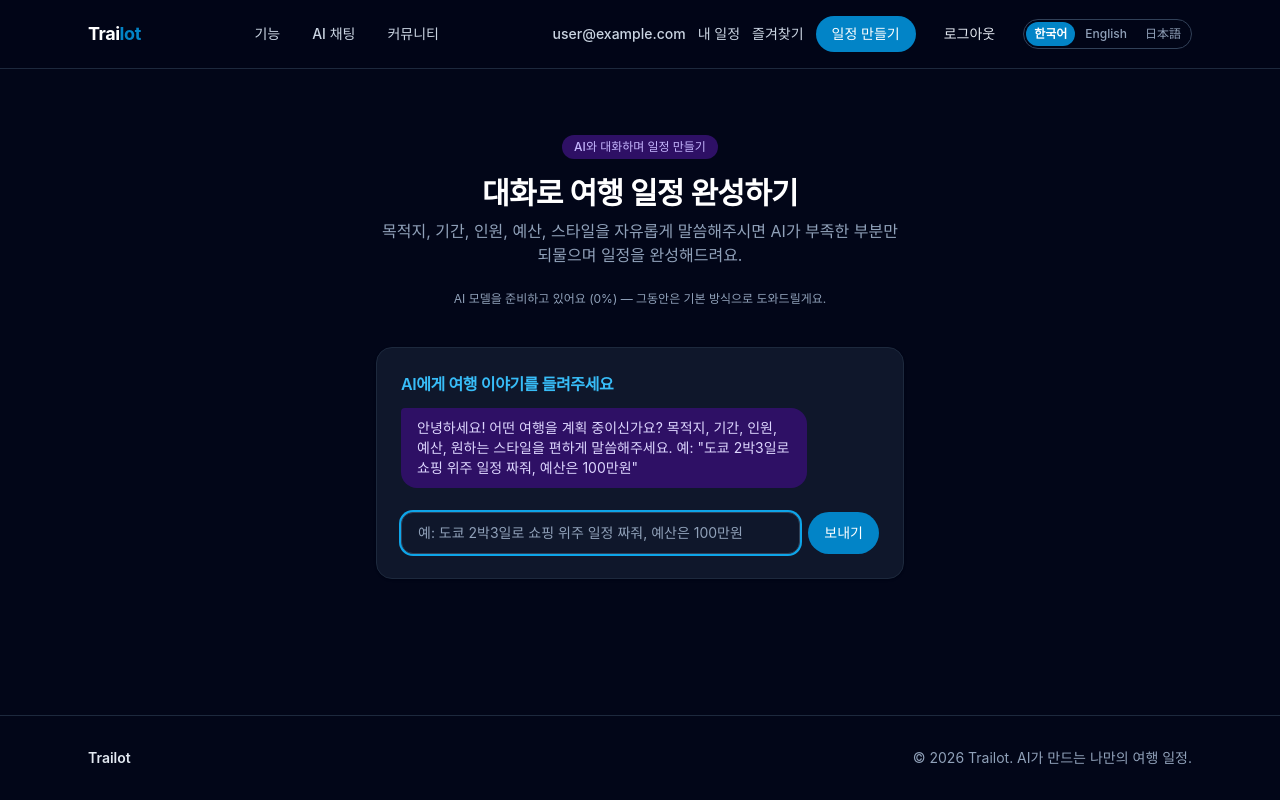
Test: PlanChatPage › asks a follow-up question for whatever is still missing after a partial message
In the field named "메시지 입력": [601, 533] box 401,512 -> 800,554, type "도쿄 2박3일로 쇼핑 위주 일정 짜줘, 예산은 100만원"
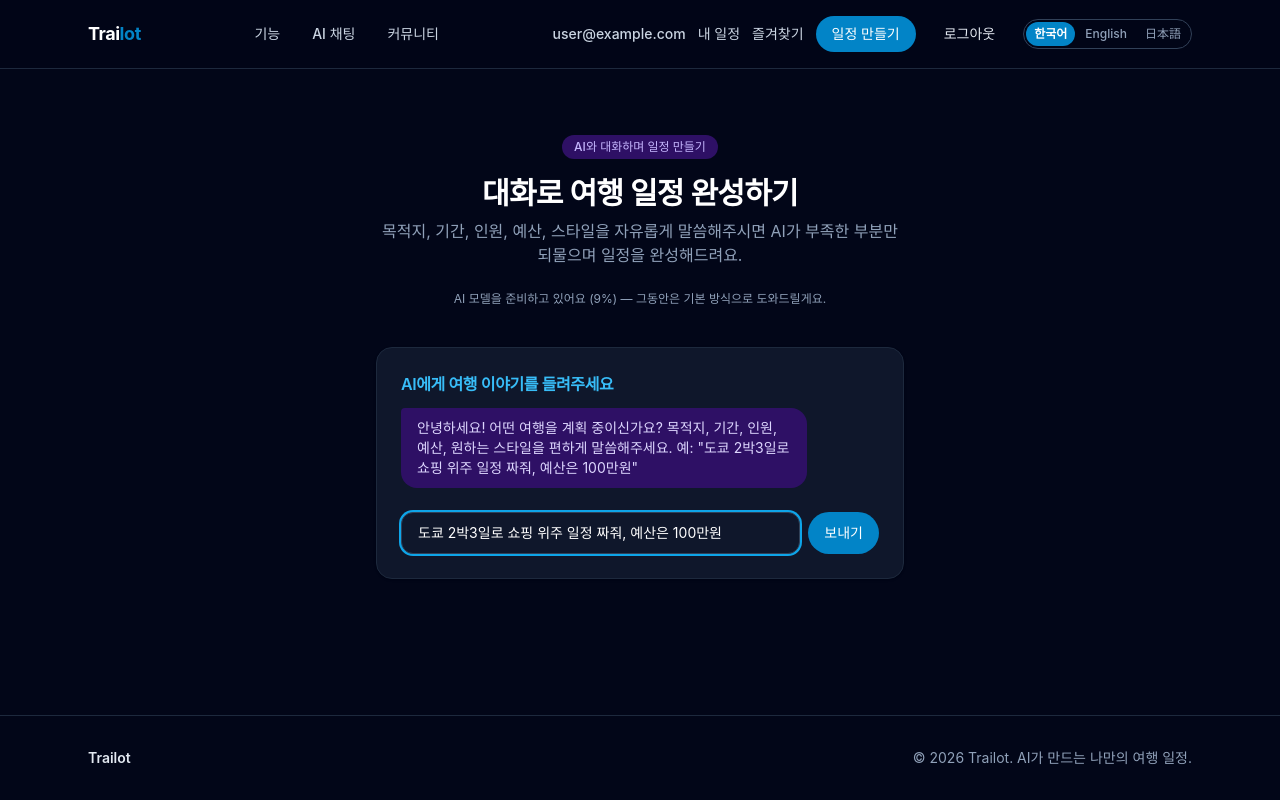
Click the button "보내기": [844, 533] box 808,512 -> 879,554
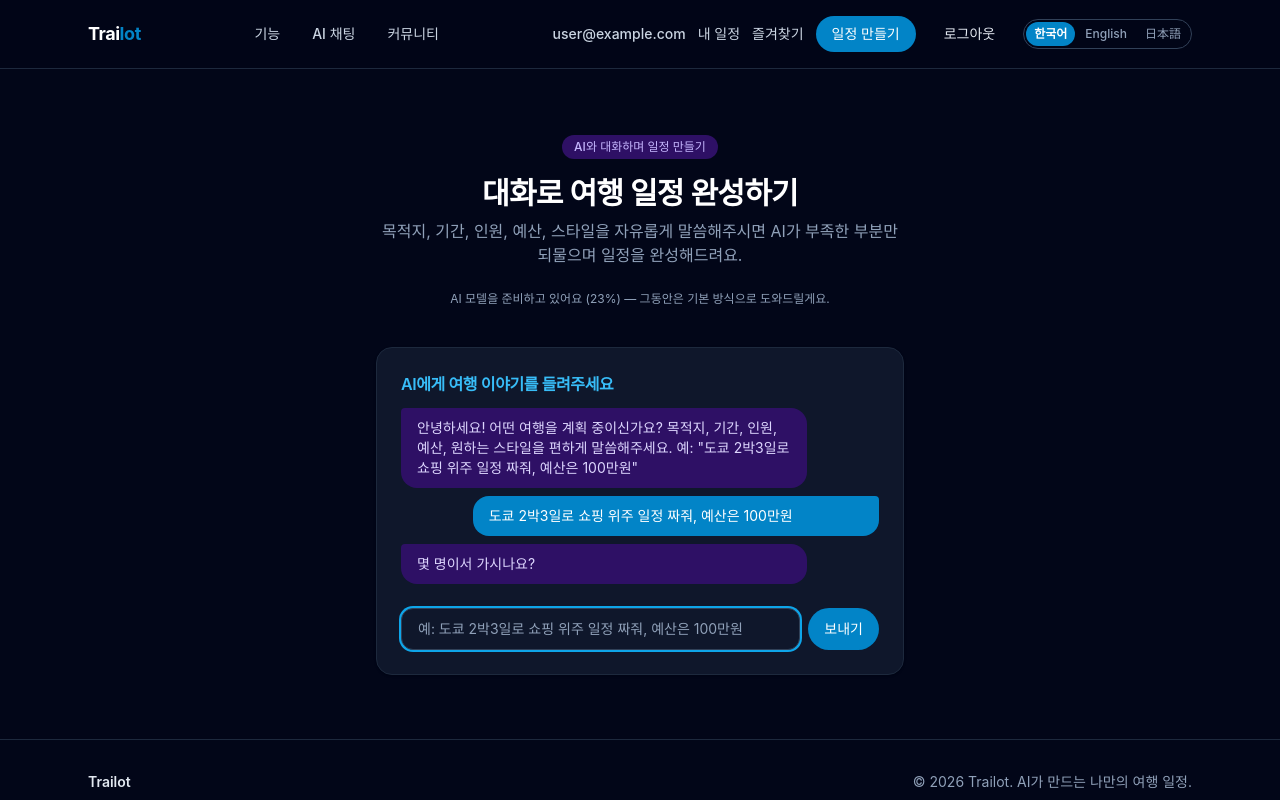
Now the text "몇 명이서 가시나요?" is shown, box 401,544 -> 807,584
